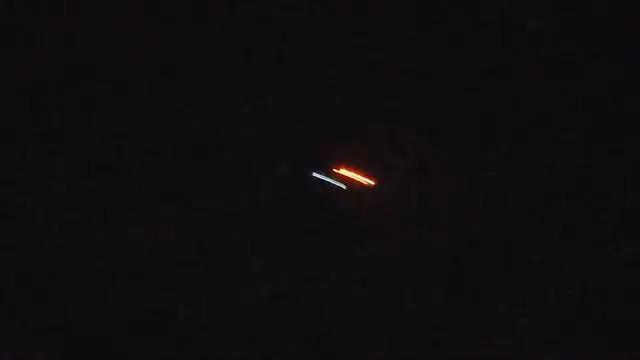Plane: (283, 155, 405, 199)
